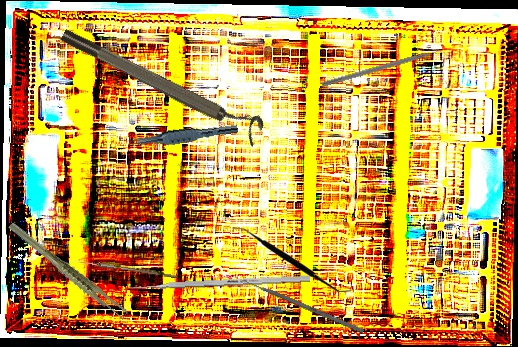Chopper: (320, 46, 451, 94)
Fixation Ring: (58, 16, 267, 148)
Pusher: (235, 275, 365, 334), (117, 274, 311, 293)
Spatula Surgical: (232, 227, 351, 292)
Surgical Spoon: (71, 258, 178, 279)
Tissue Forceps: (6, 203, 131, 338), (126, 118, 239, 153)
